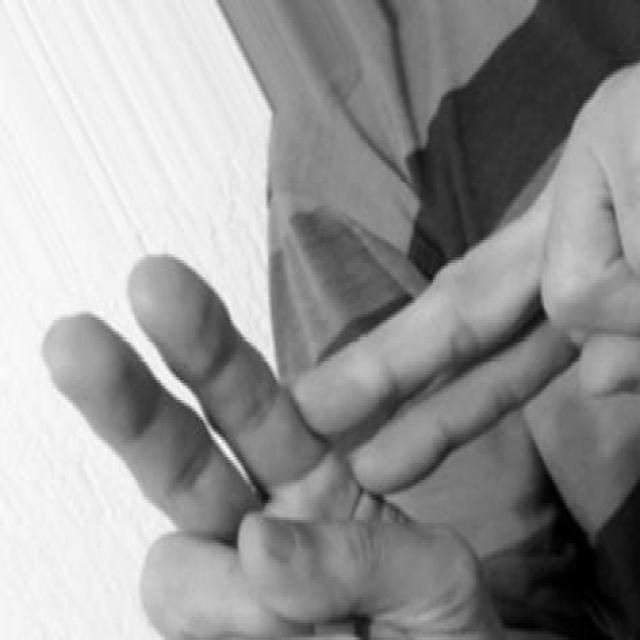K: (36, 207, 640, 640)
